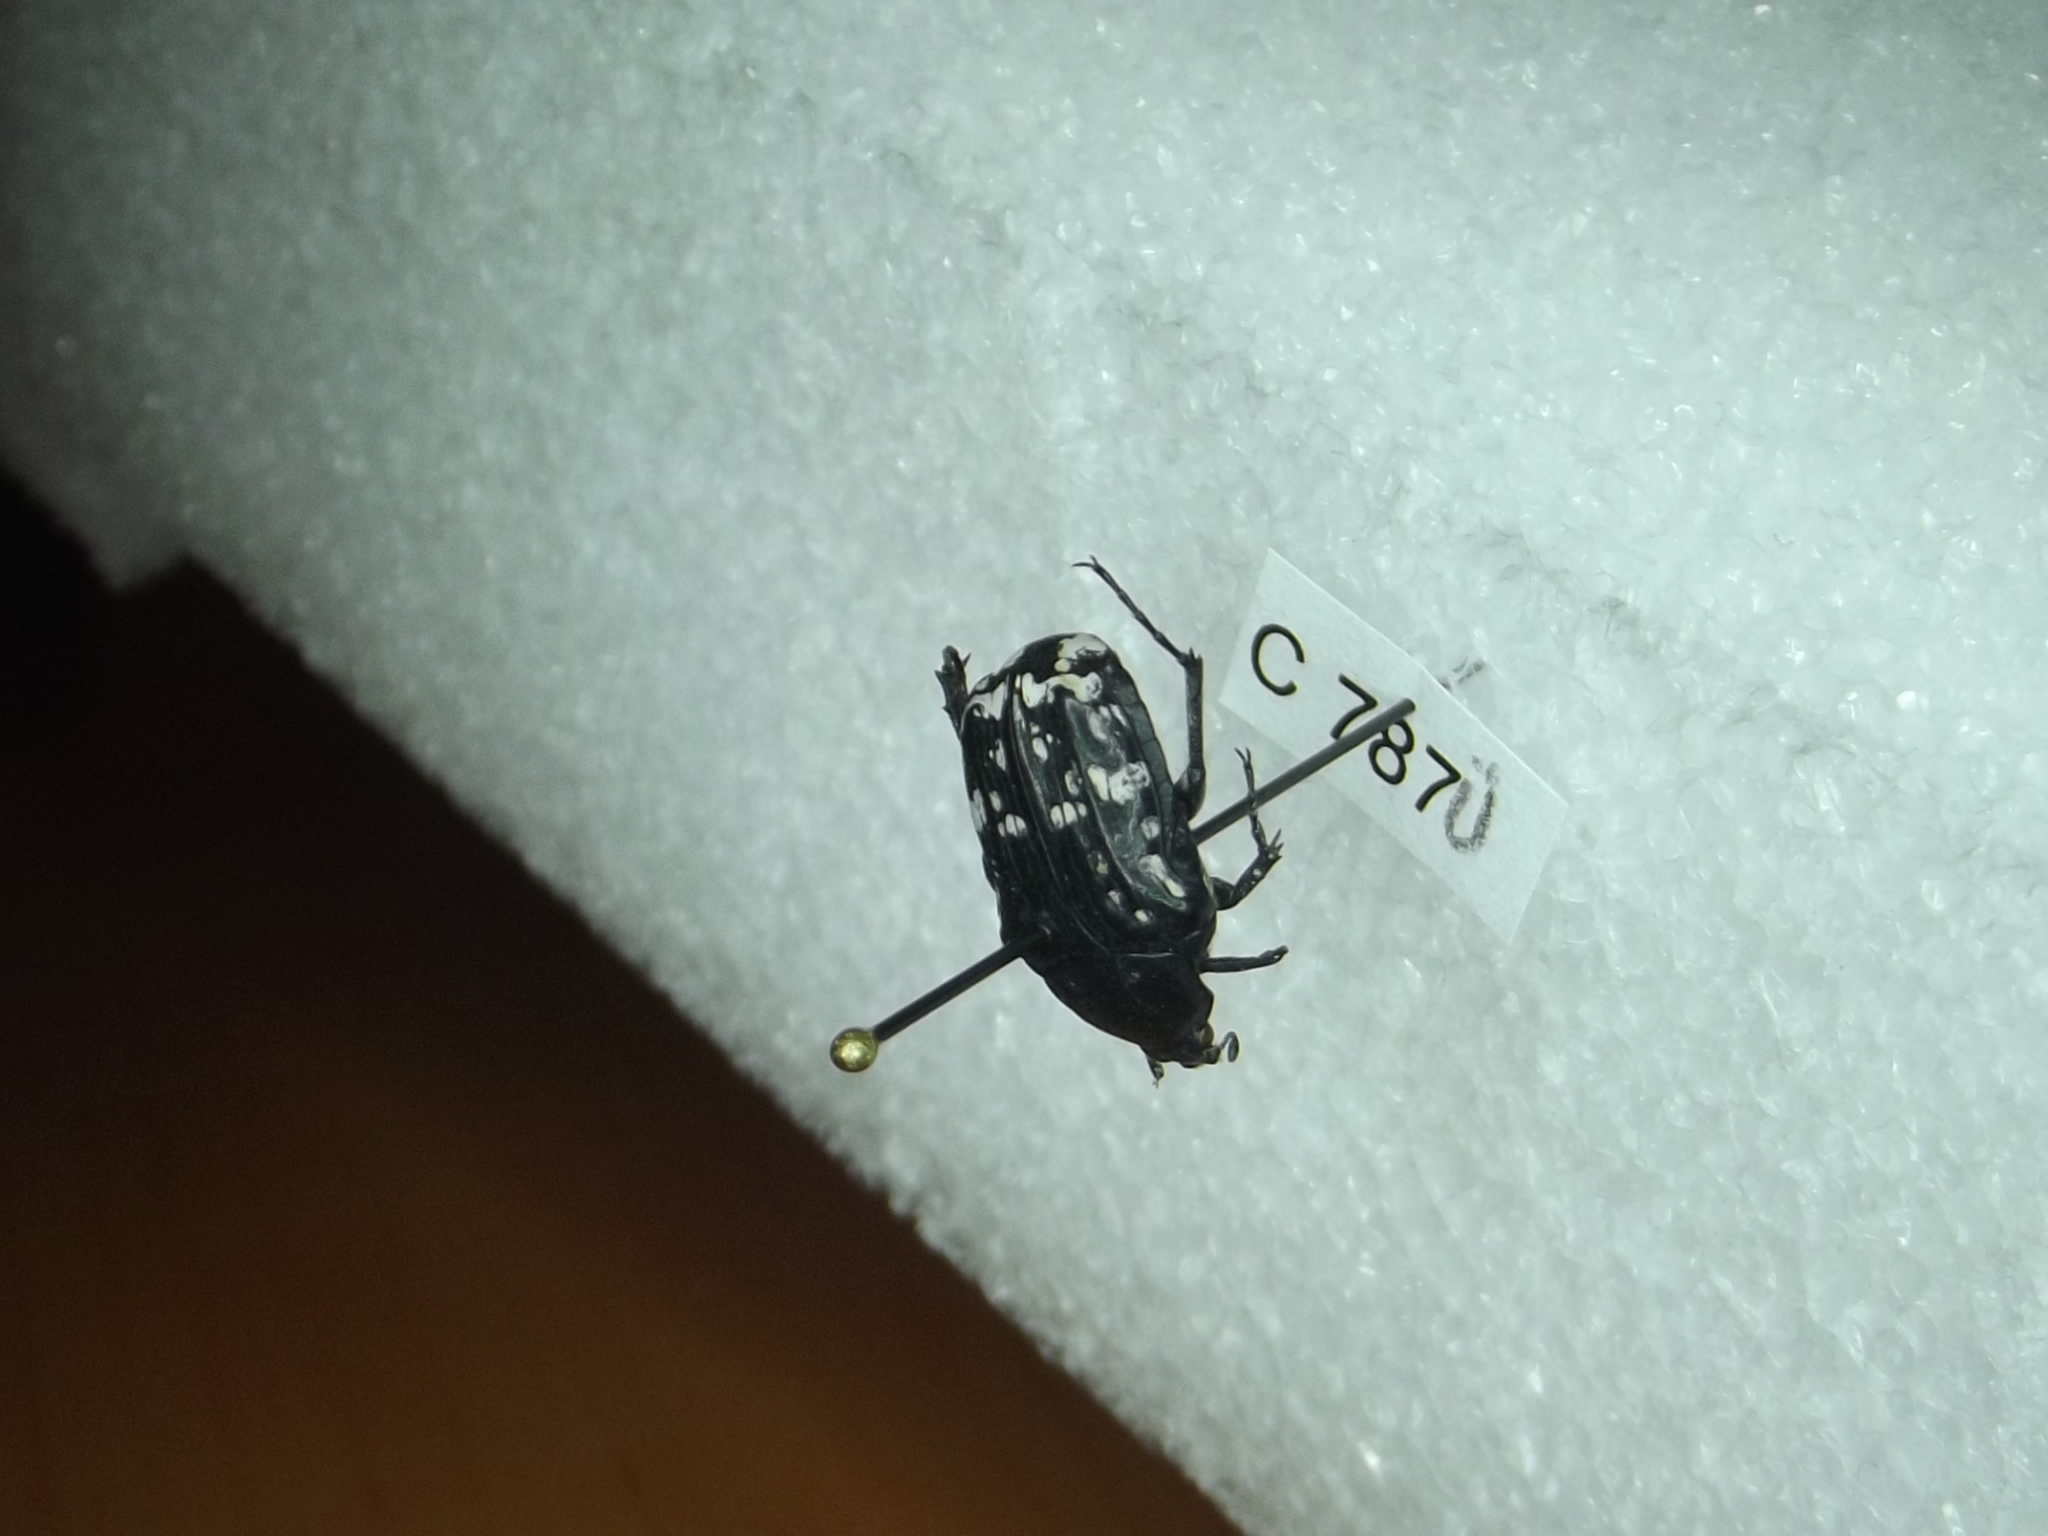Oxythyrea_albopicta: (929, 552, 1300, 1089)
